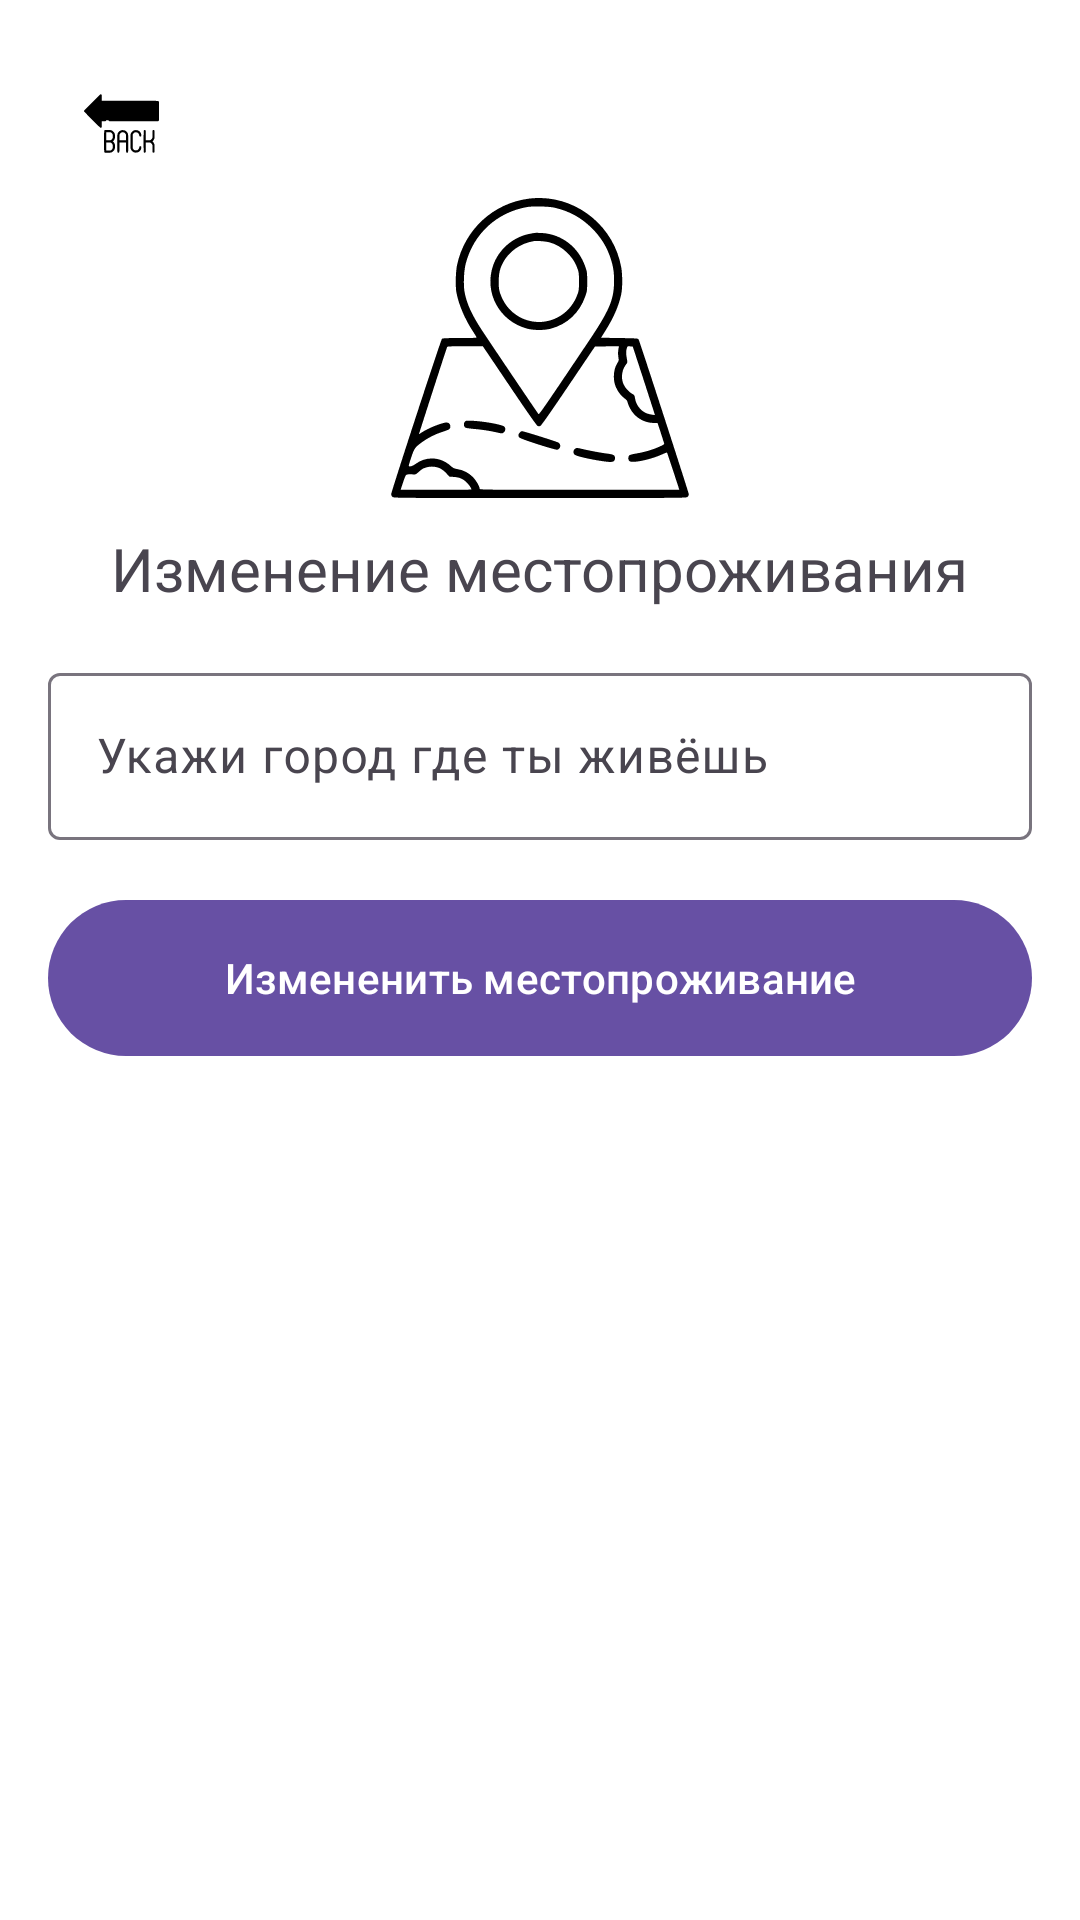

Icons on this 1080*1920 Android screen, each with the point to tap as (x=x, y=y):
map point: (x=540, y=348)
